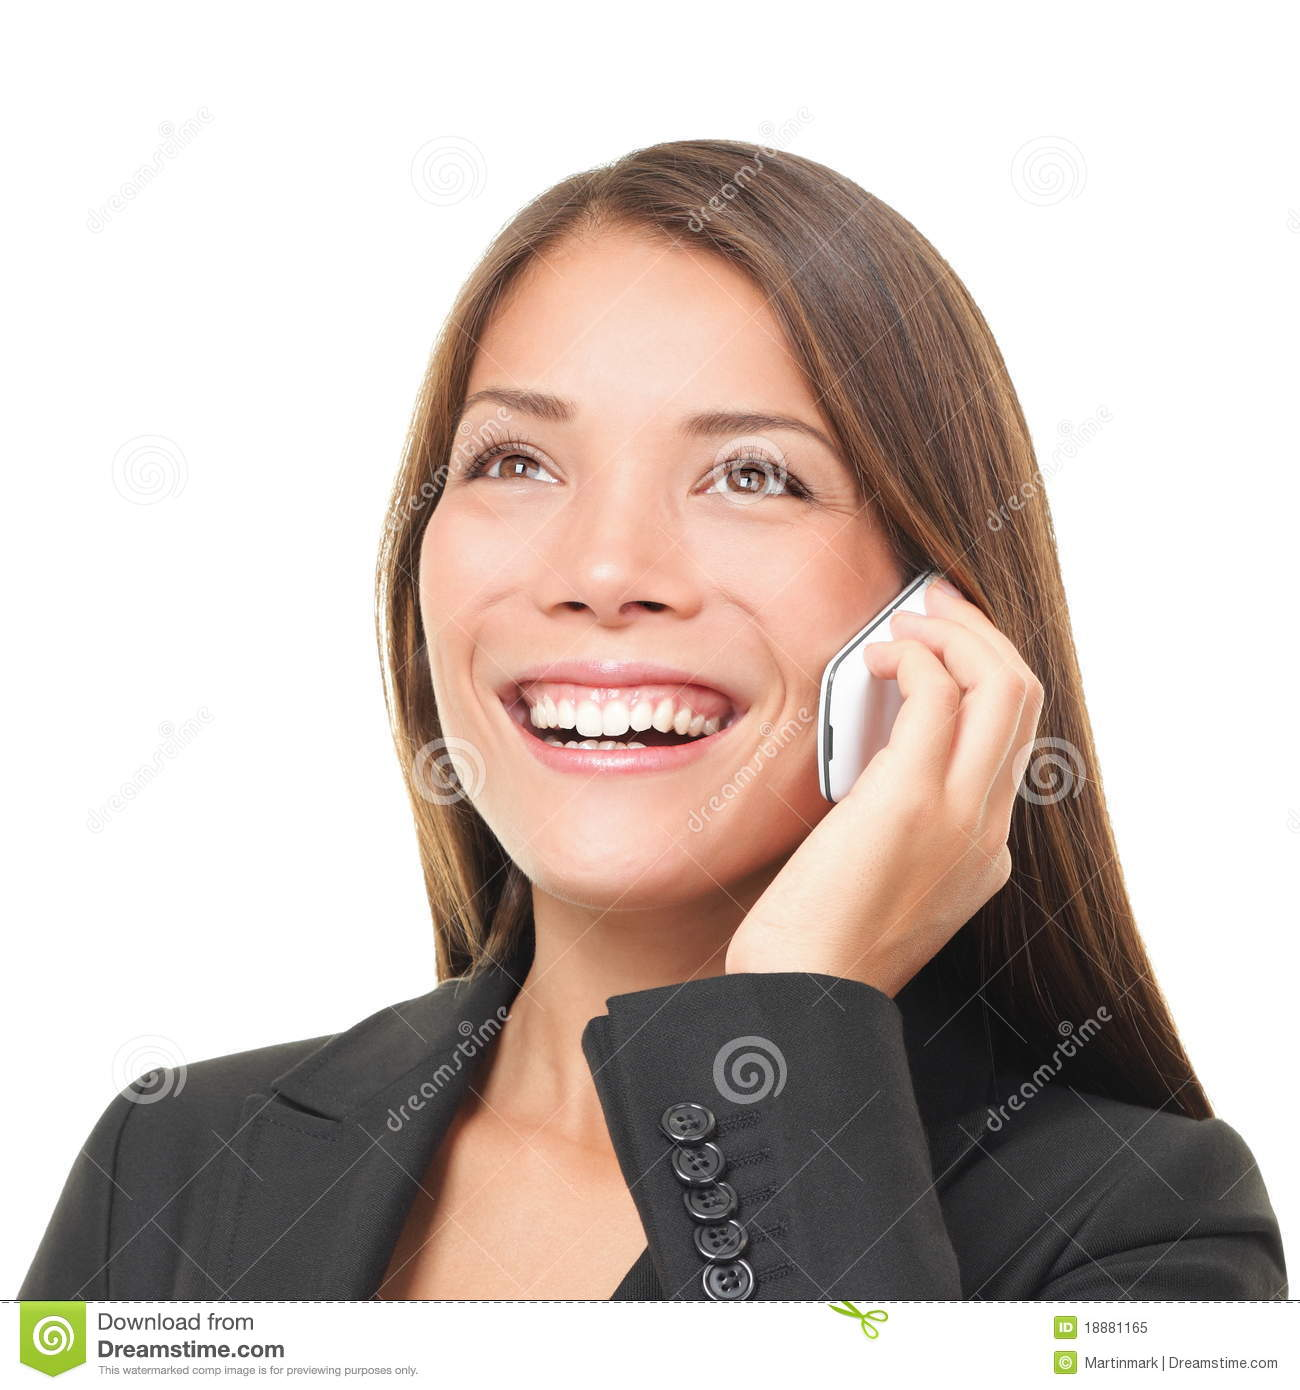phone: (811, 564, 962, 813)
talk: (417, 371, 1040, 1021)
